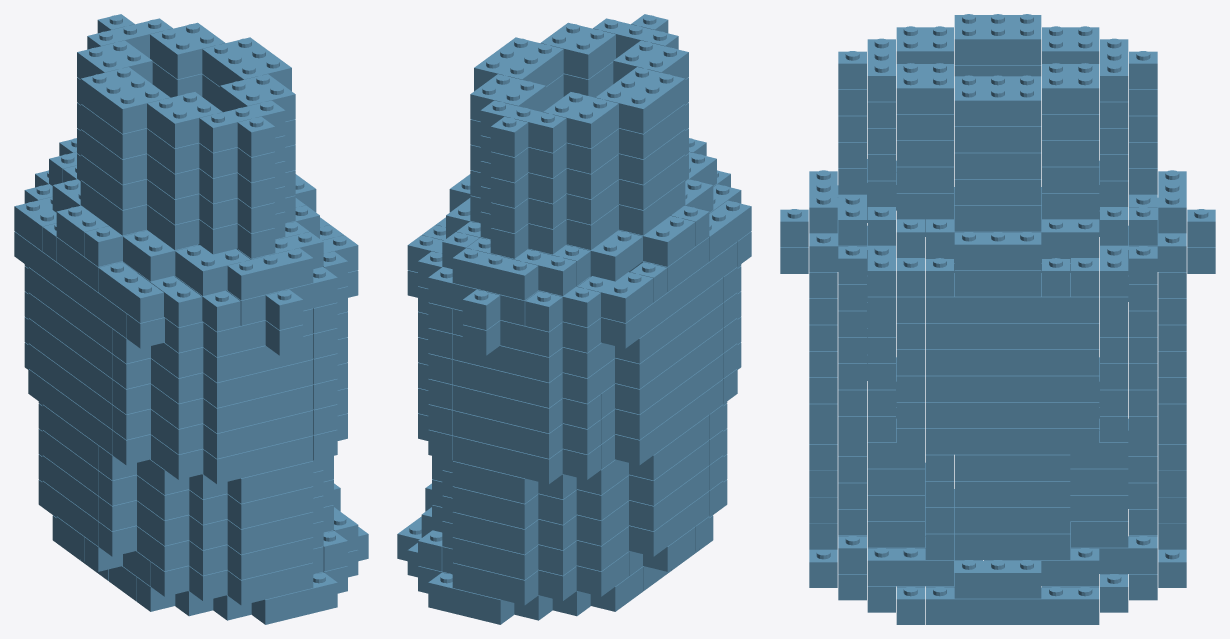
The model's file is 011_basket_L1.glb.
The picture shows the model from 3 angles, left to right: view 1: azimuth 30°, elevation 25°; view 2: azimuth 150°, elevation 25°; view 3: azimuth 270°, elevation 25°; orthographic projection. The views are drawn at different scales.
Bounding box in the file's own units: 9.98 × 19.13 × 14.98.
